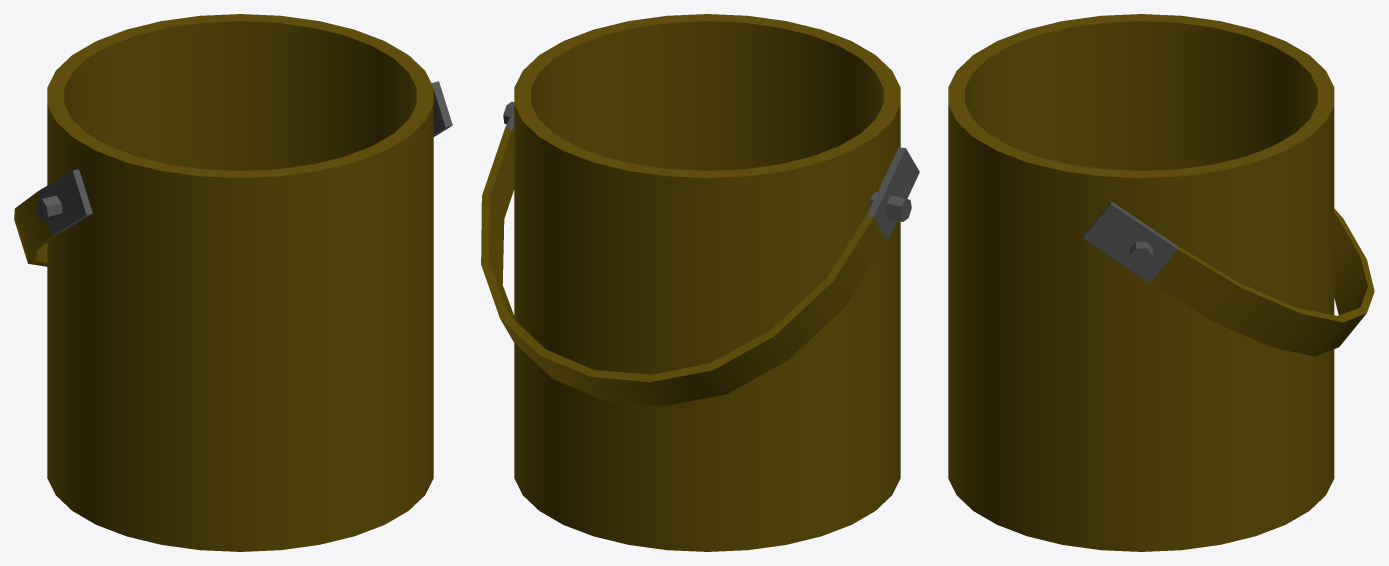
File: SM_Prop_BucketWood02.fbx
The picture shows the model from 3 angles, left to right: view 1: azimuth 30°, elevation 25°; view 2: azimuth 150°, elevation 25°; view 3: azimuth 270°, elevation 25°; orthographic projection.
Visible parts, largest first — view 1: SM_Prop_BucketWood02; view 2: SM_Prop_BucketWood02; view 3: SM_Prop_BucketWood02.
Boxes of the visible parts, x1=… form: SM_Prop_BucketWood02: x1=14, y1=14, x2=452, y2=551; SM_Prop_BucketWood02: x1=481, y1=14, x2=919, y2=551; SM_Prop_BucketWood02: x1=948, y1=14, x2=1374, y2=551.
Bounding box in the file's own units: 37.76 × 34 × 35.14.
